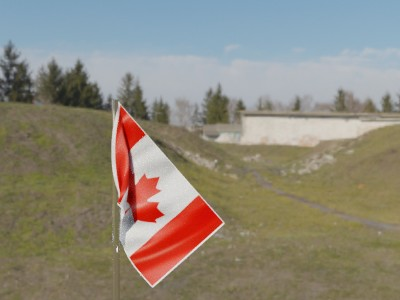Canada flag: (113, 99, 228, 288)
